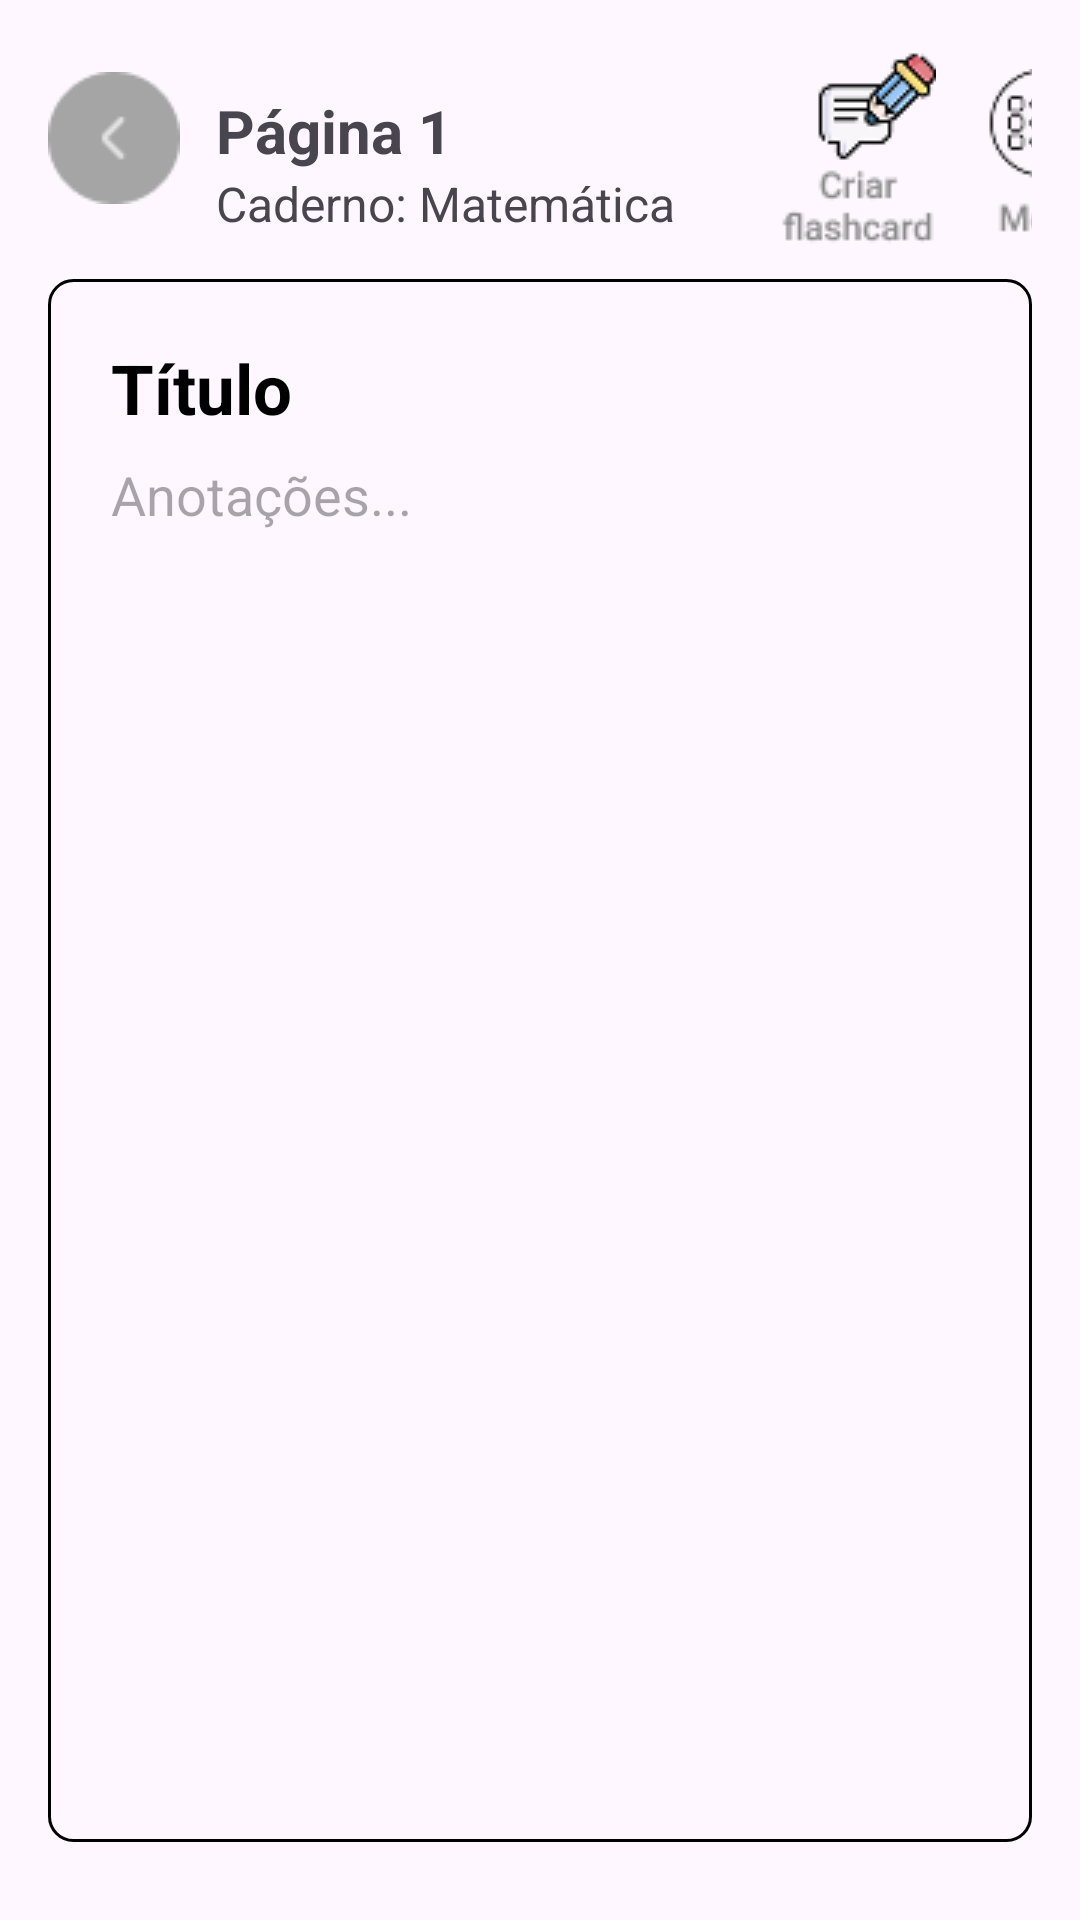

Where to tap for icons on this 1080×1920 app screen, as [x,y]:
Voltar: [114,138]
